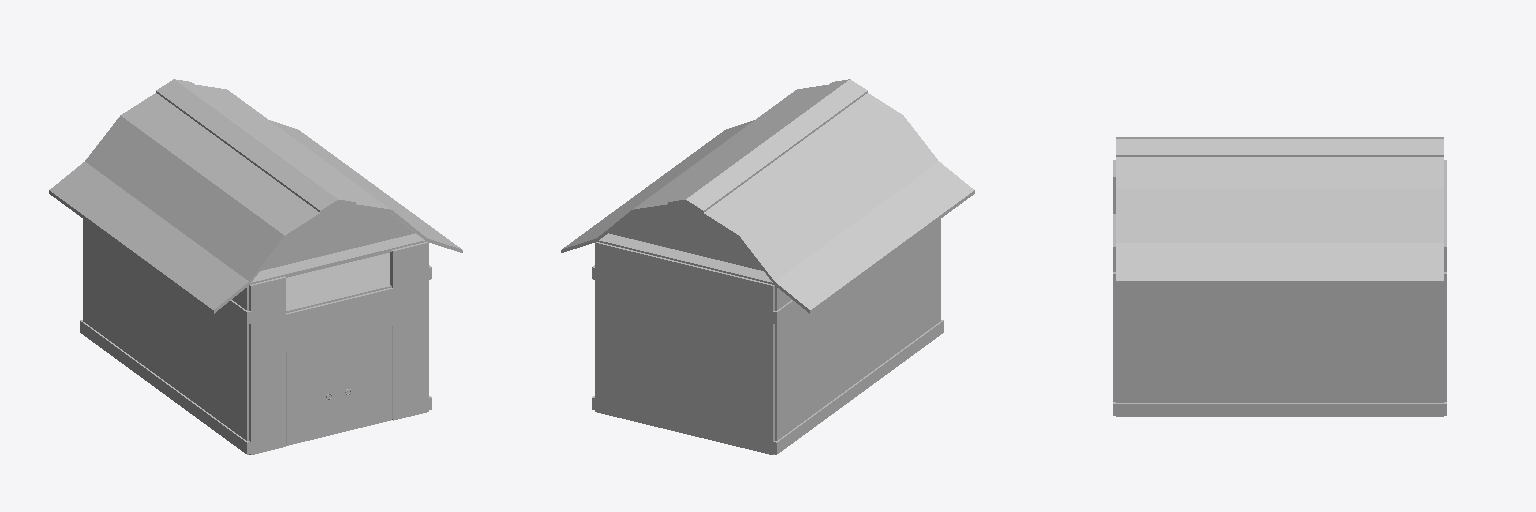
File: Barn.obj
The picture shows the model from 3 angles: view 1: azimuth 30°, elevation 25°; view 2: azimuth 150°, elevation 25°; view 3: azimuth 270°, elevation 25°; orthographic projection.
Parts seen in each view (by area): view 1: pCube2, polySurface14 pCube24, pCube23, pCube24 polySurface17 polySurface15, pCube6, pCube7, pCube22, pTorus3, pCube27, pCube25, pCube8, pCube20 (+3 smaller); view 2: pCube4, pCube2, polySurface14 pCube24, pCube23, pCube24 polySurface17 polySurface15, pCube22, pCube26, pCube29, pCube24 polySurface15 polySurface16, pCube21; view 3: pCube3, pCube24 polySurface13, pCube24 polySurface15 polySurface16, pCube23, pCube22, pCube28, pCube30, pCube4.
Part boxes in pixels (x1,y1,x2,y2): pCube2: (83, 219, 248, 454); polySurface14 pCube24: (85, 115, 284, 284); pCube23: (121, 85, 391, 238); pCube24 polySurface17 polySurface15: (49, 162, 248, 313); pCube6: (249, 276, 285, 454); pCube7: (390, 242, 428, 420); pCube22: (156, 79, 355, 212); pTorus3: (339, 326, 391, 432); pCube27: (286, 339, 338, 445); pCube25: (261, 205, 414, 270); pCube8: (286, 288, 392, 351); pCube20: (286, 253, 391, 312); pCube4: (595, 242, 774, 454); pCube2: (775, 219, 940, 454); polySurface14 pCube24: (739, 115, 938, 283); pCube23: (632, 85, 902, 238); pCube24 polySurface17 polySurface15: (775, 162, 974, 313); pCube22: (668, 79, 867, 212); pCube26: (609, 205, 762, 270); pCube29: (770, 320, 943, 454); pCube24 polySurface15 polySurface16: (561, 120, 753, 252); pCube21: (597, 233, 774, 284); pCube3: (1116, 286, 1443, 416); pCube24 polySurface13: (1116, 189, 1443, 242); pCube24 polySurface15 polySurface16: (1116, 243, 1443, 283); pCube23: (1116, 137, 1443, 188); pCube22: (1116, 138, 1443, 156); pCube28: (1113, 402, 1446, 415); pCube30: (1113, 272, 1446, 285); pCube4: (1444, 160, 1446, 401).
Bounding box in the file's own units: 14 × 12.53 × 16.27.